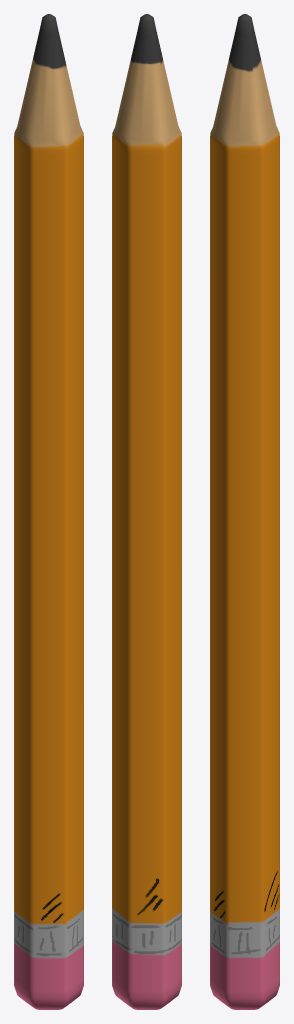
The model's file is F_Pencil.fbx.
The picture shows the model from 3 angles, left to right: view 1: azimuth 30°, elevation 25°; view 2: azimuth 150°, elevation 25°; view 3: azimuth 330°, elevation 25°; orthographic projection.
Visible parts, largest first — view 1: Pencil; view 2: Pencil; view 3: Pencil.
Boxes of the visible parts, left/top/right/bottom form: Pencil: left=14, top=14, right=83, bottom=1009; Pencil: left=112, top=14, right=181, bottom=1009; Pencil: left=210, top=14, right=279, bottom=1009.
Bounding box in the file's own units: 144 × 2501 × 160.
